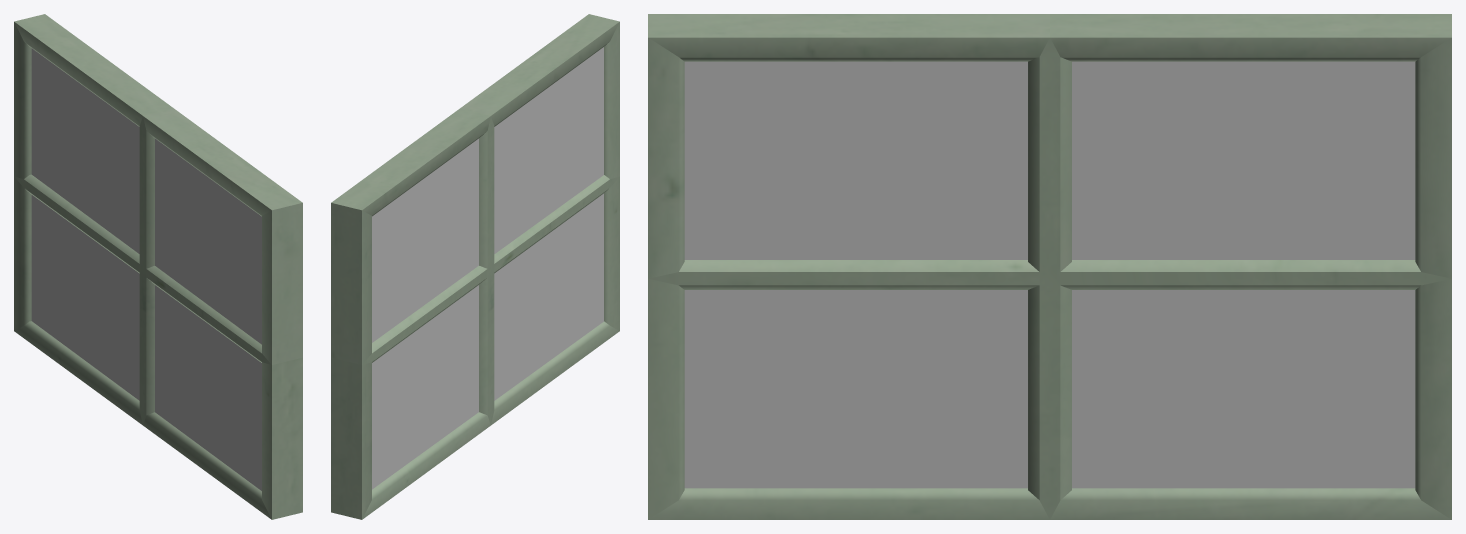
File: SM_WW30_Door002.fbx
3 renders of one model, left to right at view 1: azimuth 30°, elevation 25°; view 2: azimuth 150°, elevation 25°; view 3: azimuth 270°, elevation 25°, orthographic. The views are drawn at different scales.
Visible parts, largest first — view 1: SM_WW30_Door002; view 2: SM_WW30_Door002; view 3: SM_WW30_Door002.
Boxes of the visible parts, <box> form: SM_WW30_Door002: <box>14,14,302,519</box>; SM_WW30_Door002: <box>331,14,619,519</box>; SM_WW30_Door002: <box>648,14,1451,519</box>.
Bounding box in the file's own units: 6.51 × 94.05 × 62.29.
Materials: 2 (1 with a texture image).
